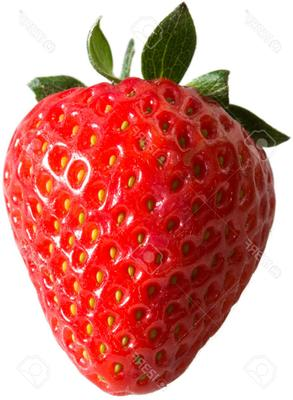strawberry: (0, 0, 293, 400)
